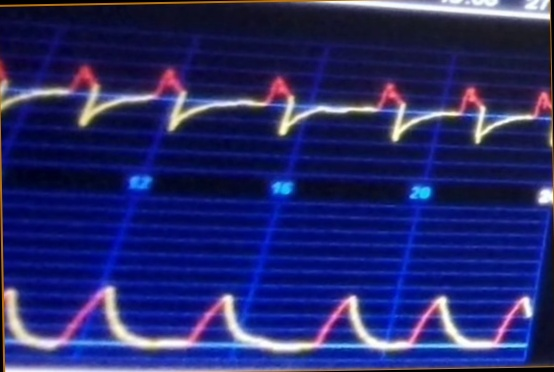Accumulation Flow: (1, 43, 552, 162)
Volume: (4, 257, 532, 359)
